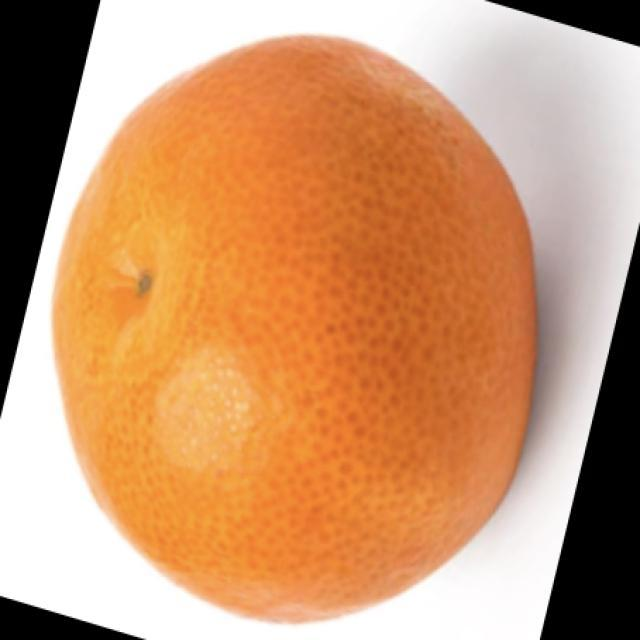Orange: (50, 32, 539, 625)
